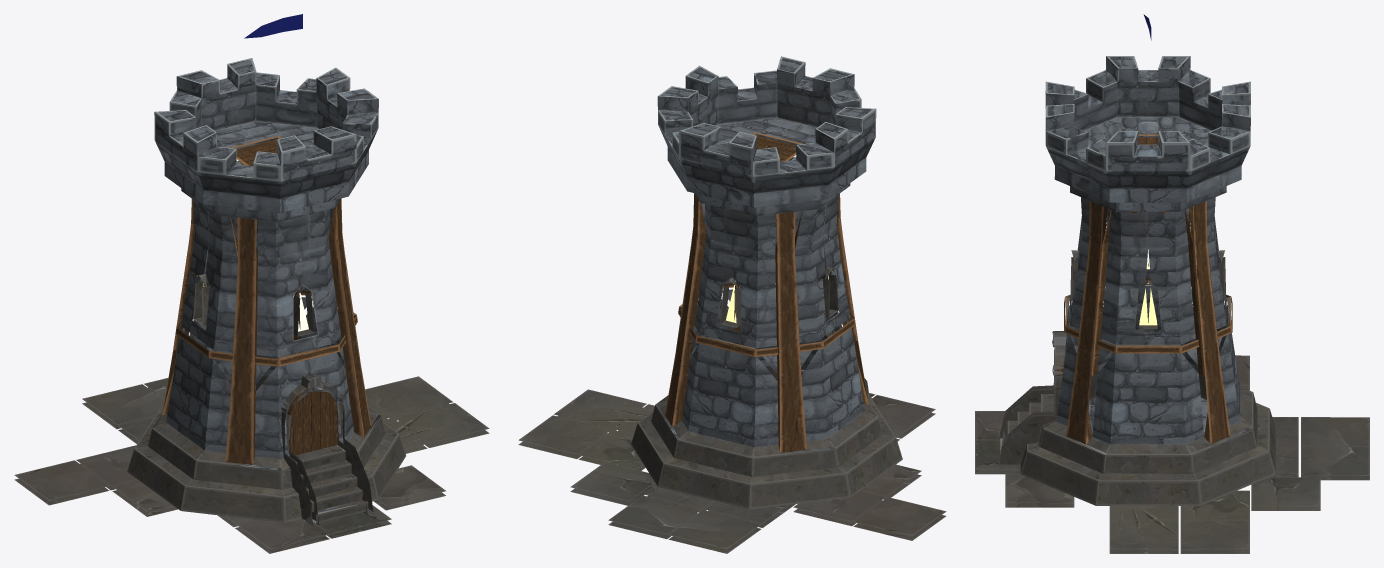
The model's file is tower.glb.
3 renders of one model, left to right at view 1: azimuth 30°, elevation 25°; view 2: azimuth 150°, elevation 25°; view 3: azimuth 270°, elevation 25°, orthographic. The views are drawn at different scales.
Visible parts, largest first — view 1: Object_5; view 2: Object_5; view 3: Object_5.
Part boxes in pixels (box(x1,y1,x2,y2)): Object_5: box(14, 14, 489, 553); Object_5: box(518, 56, 946, 553); Object_5: box(975, 14, 1369, 553).
Bounding box in the file's own units: 4.88 × 5.13 × 4.2.
Materials: 6 (5 with a texture image).
